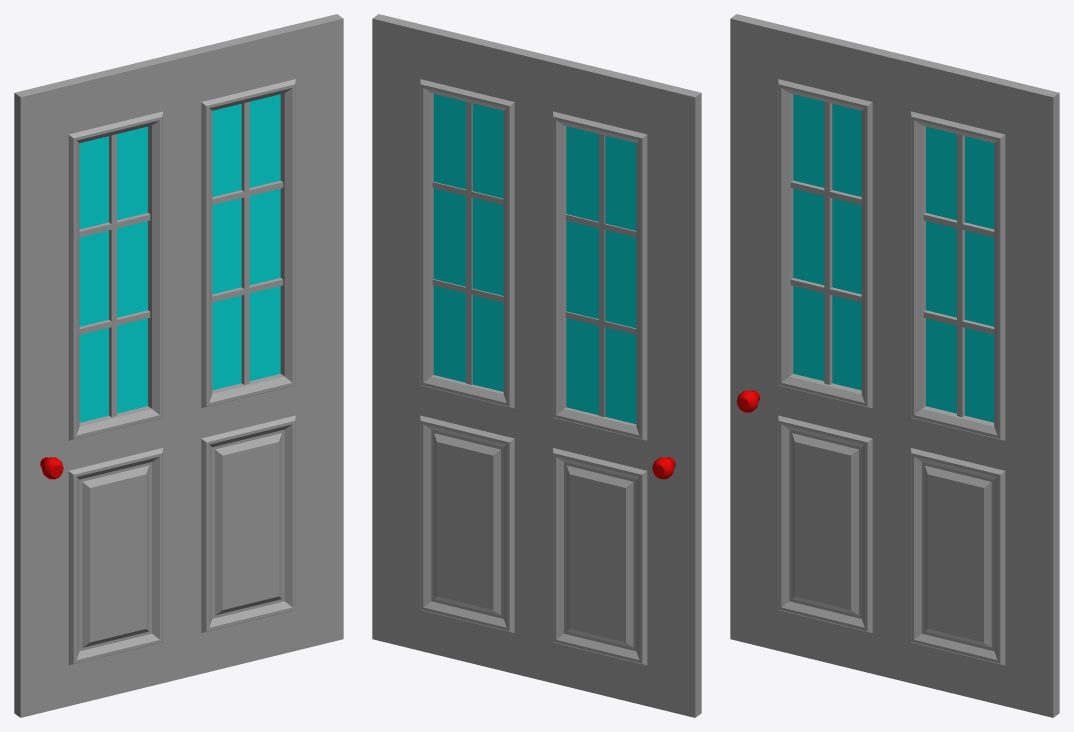
The model's file is Mesh_Door_03.FBX.
3 renders of one model, left to right at view 1: azimuth 30°, elevation 25°; view 2: azimuth 150°, elevation 25°; view 3: azimuth 330°, elevation 25°, orthographic.
Visible parts, largest first — view 1: Mesh_Door_03; view 2: Mesh_Door_03; view 3: Mesh_Door_03.
Boxes of the visible parts, x1,y1,x2,y2 form: Mesh_Door_03: [14, 14, 343, 717]; Mesh_Door_03: [372, 14, 701, 717]; Mesh_Door_03: [730, 14, 1059, 717].
Bounding box in the file's own units: 1.18 × 2.17 × 0.1906.
